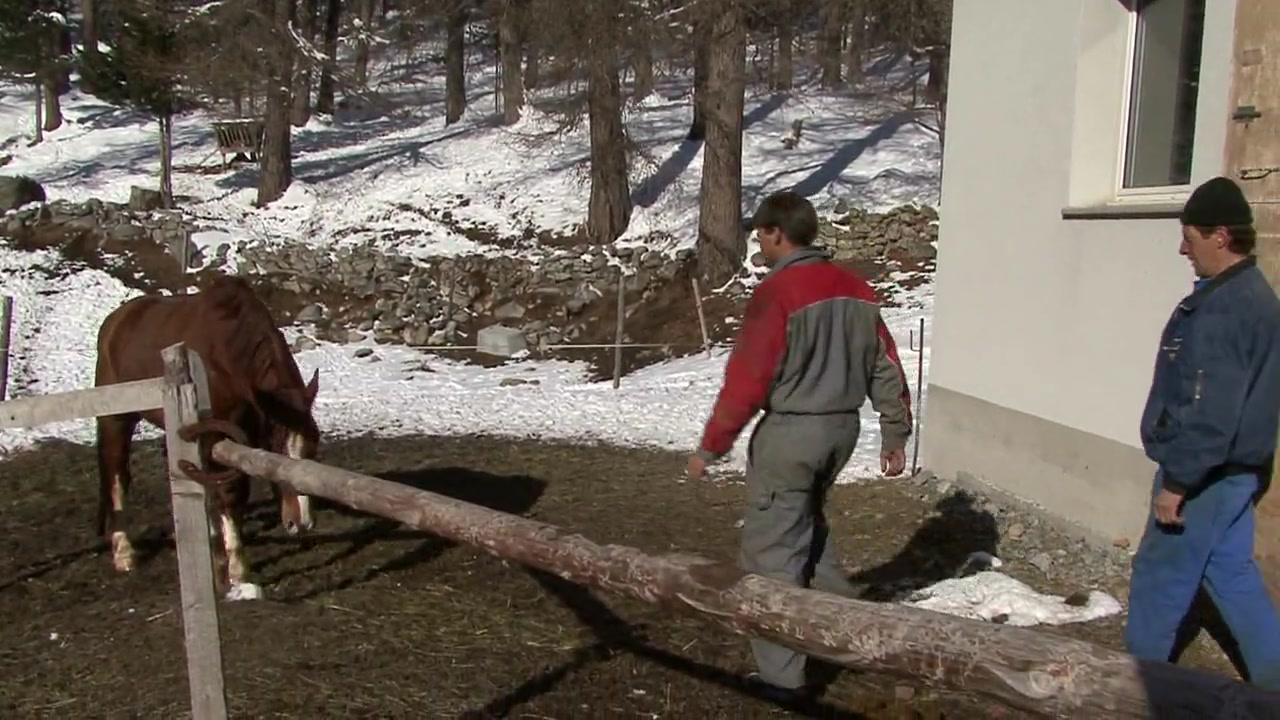horse: (95, 278, 325, 602)
